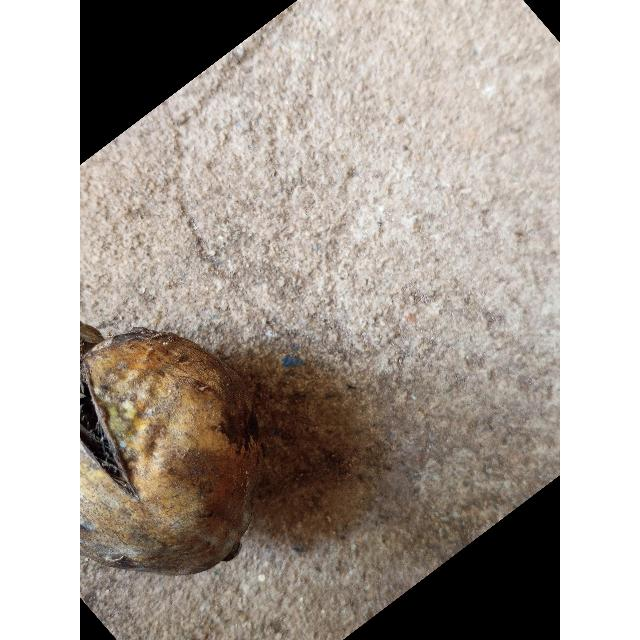damaged: (80, 323, 266, 577)
